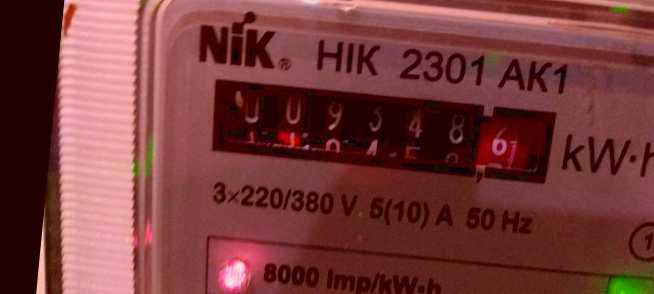0: (280, 90, 305, 128), (239, 88, 263, 125)
3: (362, 99, 387, 133)
4: (402, 103, 426, 142)
6: (488, 121, 513, 157)
8: (444, 109, 468, 145)
9: (323, 95, 344, 131)
screen: (183, 61, 576, 200)
